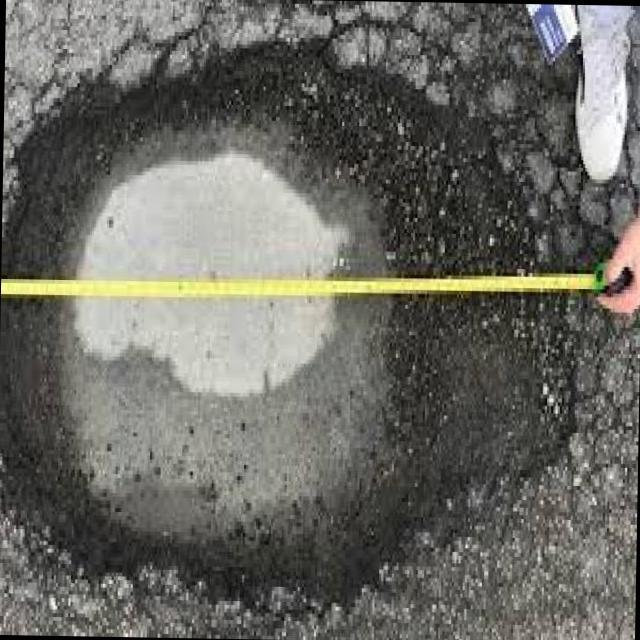Burst: (0, 295, 563, 640), (1, 41, 525, 280)
